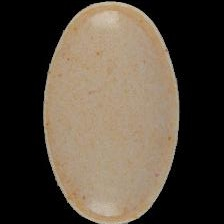53808-0833: (0, 0, 224, 224)
